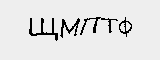М: (59, 16, 81, 40)
П: (80, 15, 100, 34)
Т: (100, 15, 119, 34)
Ф: (117, 16, 134, 39)
Щ: (26, 16, 59, 41)
